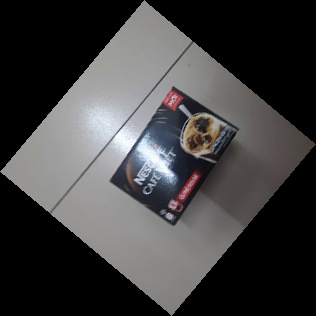CF Viet: (108, 86, 240, 225)
